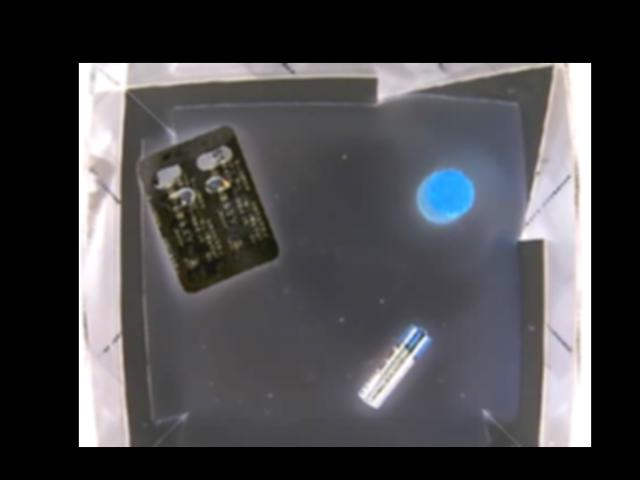Battery: (355, 323, 431, 411)
Carrot: (415, 169, 475, 225)
Medicine: (138, 125, 280, 295)
